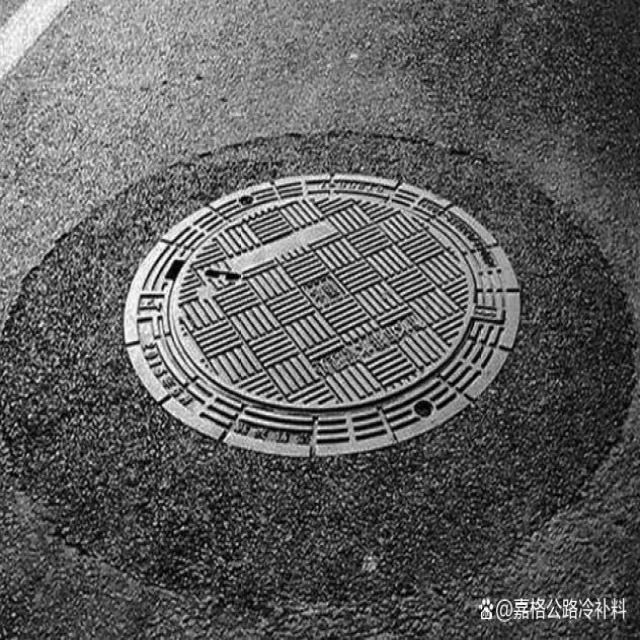manhole: (121, 173, 522, 463)
